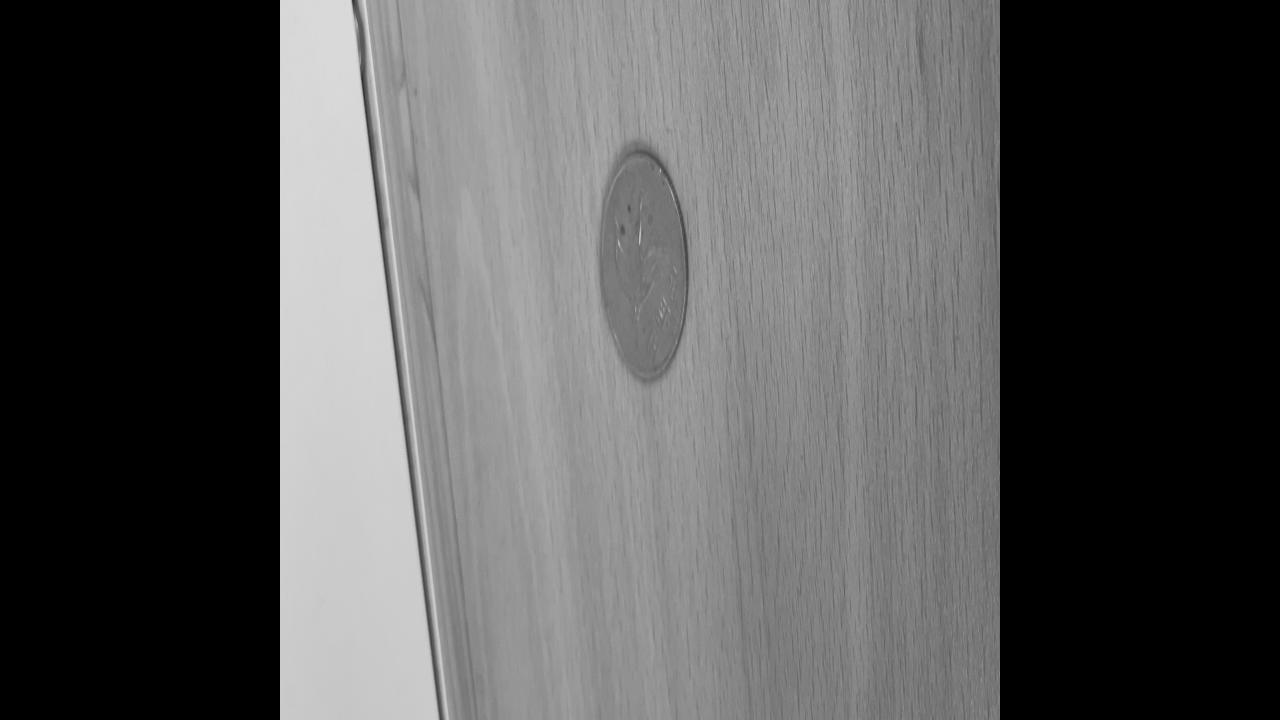coin: (600, 150, 690, 384)
